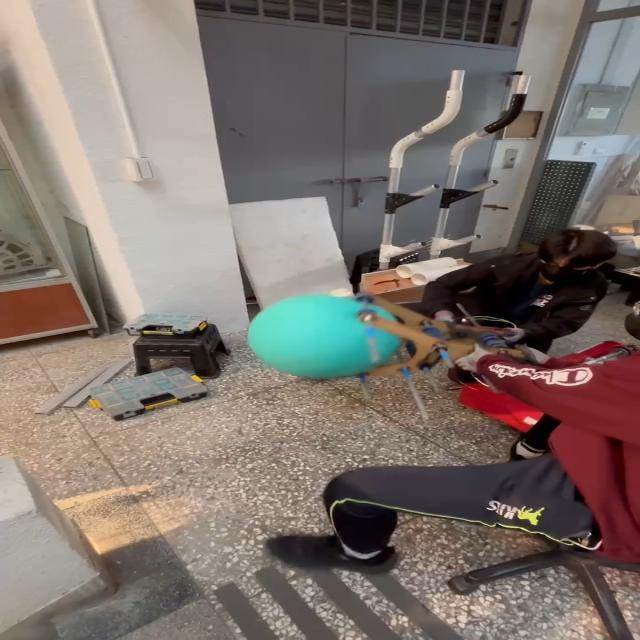ALGAE: (244, 293, 404, 381)
